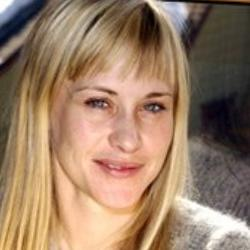face: (2, 1, 202, 239)
